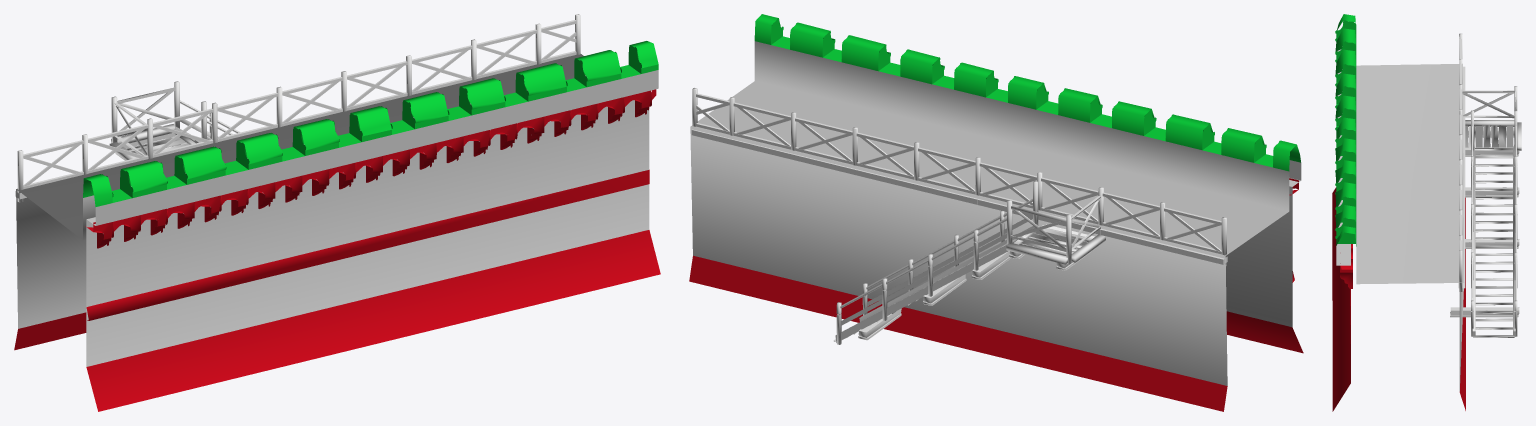
File: Wall_2 (2).fbx
3 renders of one model, left to right at view 1: azimuth 30°, elevation 25°; view 2: azimuth 150°, elevation 25°; view 3: azimuth 270°, elevation 25°, orthographic. The views are drawn at different scales.
Parts seen in each view (by area): view 1: Group_4.015, Group_3.012, Group_3.013, Group_3.011; view 2: Group_4.015, Group_3.012, Group_3.013, Group_3.011; view 3: Group_4.015, Group_3.013, Group_3.012.
Boxes of the visible parts, bbox=[...] form: Group_4.015: bbox=[14, 41, 660, 411]; Group_3.012: bbox=[15, 14, 580, 202]; Group_3.013: bbox=[109, 81, 240, 160]; Group_3.011: bbox=[153, 108, 213, 157]; Group_4.015: bbox=[689, 14, 1303, 411]; Group_3.012: bbox=[691, 88, 1227, 266]; Group_3.013: bbox=[833, 181, 1105, 344]; Group_3.011: bbox=[1039, 177, 1101, 234]; Group_4.015: bbox=[1332, 14, 1465, 411]; Group_3.013: bbox=[1450, 86, 1521, 337]; Group_3.012: bbox=[1458, 33, 1465, 291].
Bounding box in the file's own units: 1800 × 690 × 660.
